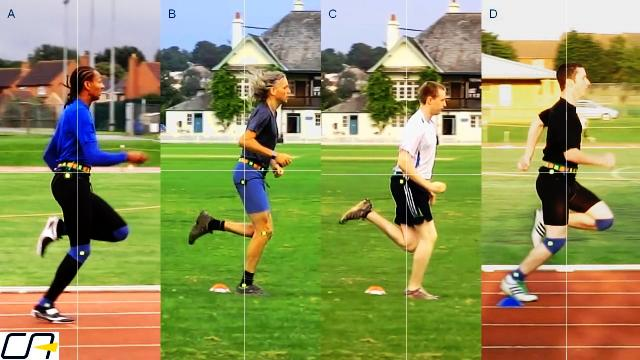berlari: (490, 54, 626, 314), (28, 60, 148, 328), (339, 65, 451, 305), (188, 55, 296, 301)
